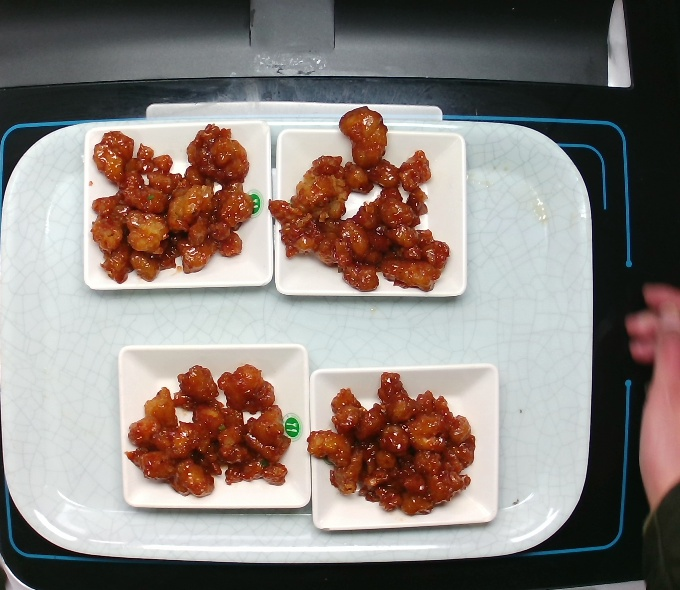wcq-TangCuPaiGu: (268, 111, 449, 290), (91, 119, 251, 278), (306, 375, 478, 517), (123, 360, 292, 495)
